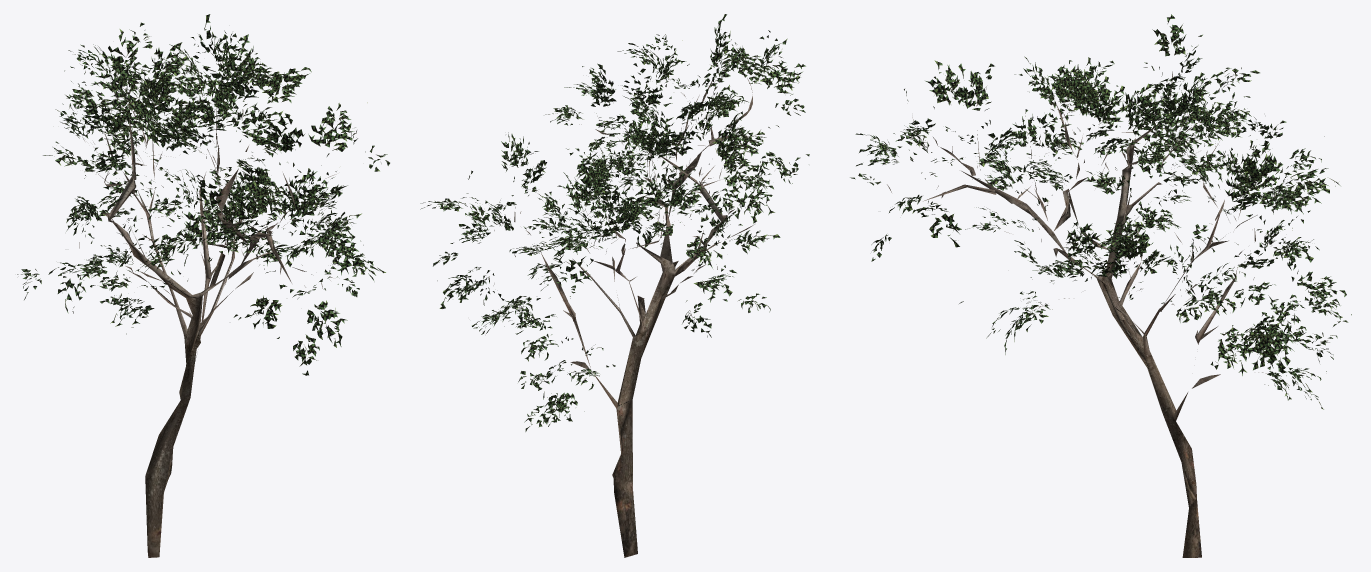
File: tree_small_02_lod1.glb
The picture shows the model from 3 angles, left to right: view 1: azimuth 30°, elevation 25°; view 2: azimuth 150°, elevation 25°; view 3: azimuth 270°, elevation 25°; orthographic projection. The views are drawn at different scales.
Parts seen in each view (by area): view 1: tree_small_02_LOD0; view 2: tree_small_02_LOD0; view 3: tree_small_02_LOD0.
Boxes of the visible parts, x1,y1,x2,y2 form: tree_small_02_LOD0: (17,14,389,557); tree_small_02_LOD0: (420,14,809,557); tree_small_02_LOD0: (850,14,1351,557).
Bounding box in the file's own units: 2.87 × 4.54 × 4.14.
3 materials, 3 textured.
